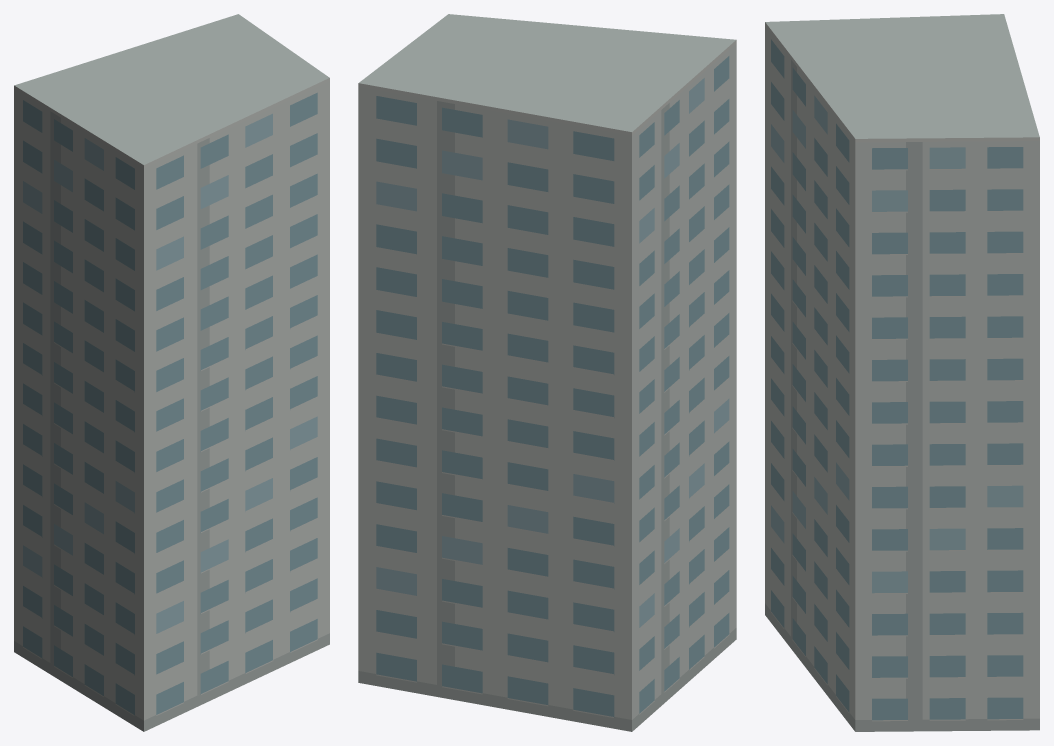
Rendered from residential-5f6f8f50-9d30-4000-a2c2-83983e4118ca.glb.
The picture shows the model from 3 angles, left to right: view 1: azimuth 30°, elevation 25°; view 2: azimuth 150°, elevation 25°; view 3: azimuth 270°, elevation 25°; orthographic projection. The views are drawn at different scales.
Visible parts, largest first — view 1: residential-5f6f8f50-9d30-4000-a2c2-83983e4118ca.tmp; view 2: residential-5f6f8f50-9d30-4000-a2c2-83983e4118ca.tmp; view 3: residential-5f6f8f50-9d30-4000-a2c2-83983e4118ca.tmp.
Boxes of the visible parts, bbox=[...] form: residential-5f6f8f50-9d30-4000-a2c2-83983e4118ca.tmp: bbox=[14, 14, 329, 731]; residential-5f6f8f50-9d30-4000-a2c2-83983e4118ca.tmp: bbox=[358, 14, 736, 731]; residential-5f6f8f50-9d30-4000-a2c2-83983e4118ca.tmp: bbox=[765, 14, 1039, 731].
Bounding box in the file's own units: 18.08 × 40 × 16.81.
